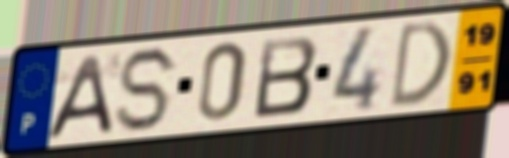0: (194, 38, 250, 126)
4: (329, 24, 385, 114)
A: (42, 51, 116, 142)
B: (252, 33, 321, 121)
D: (386, 17, 454, 113)
S: (113, 44, 183, 136)
